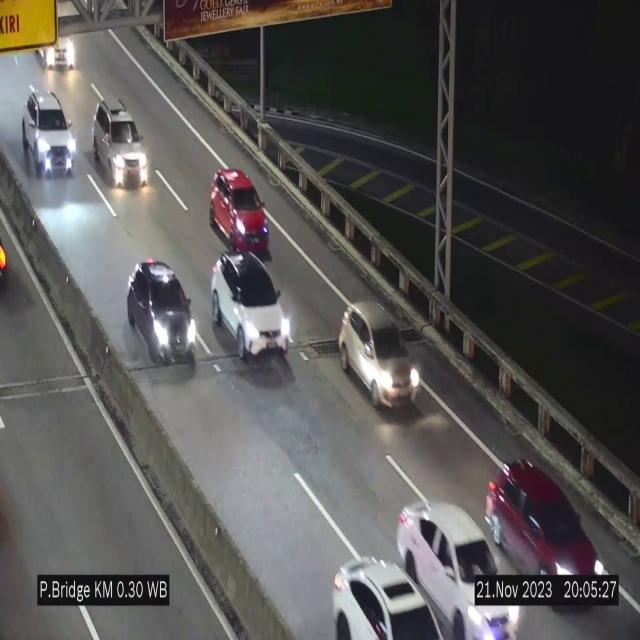Car: (479, 439, 613, 617), (396, 504, 511, 639), (321, 557, 445, 640), (338, 302, 422, 408), (212, 252, 290, 358), (126, 258, 195, 372), (90, 89, 150, 194), (210, 168, 270, 256), (23, 88, 77, 176), (38, 32, 80, 71)
